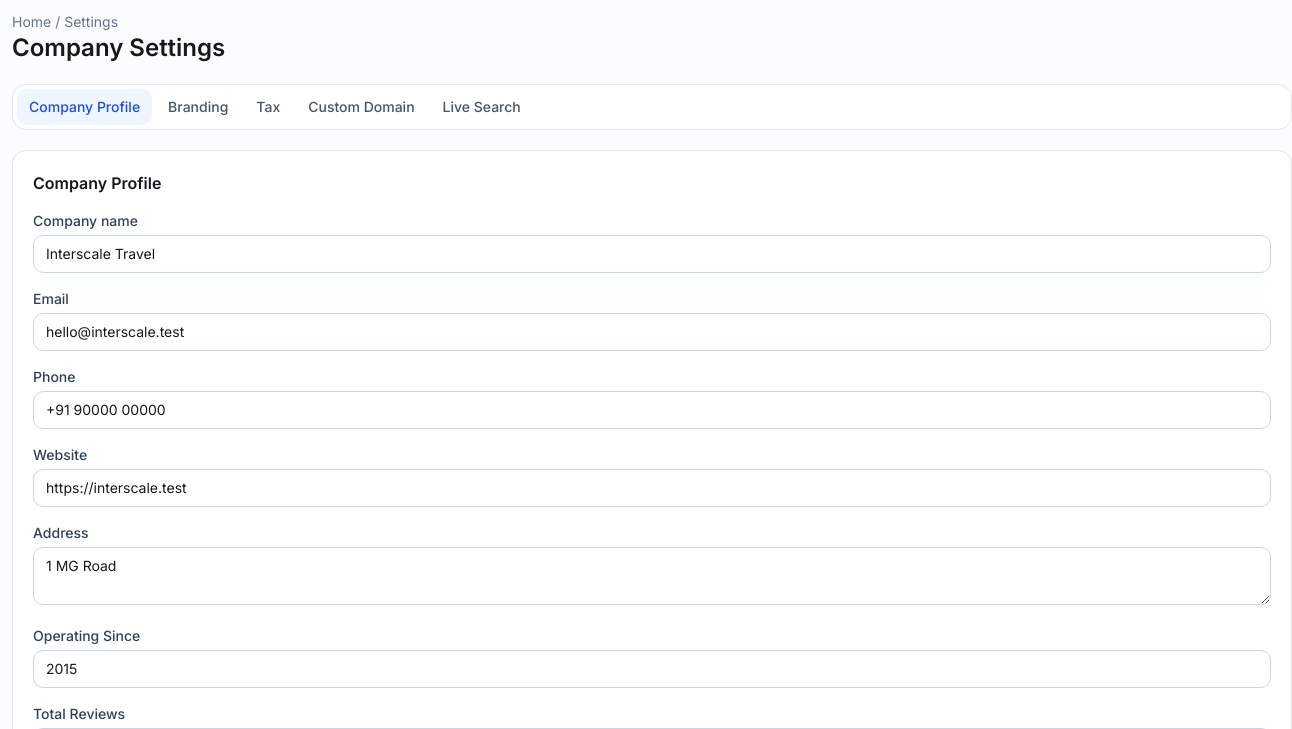
Phase 18 settings page › keeps primary colour data intact while hiding the control
Expected: the heading "Company Settings" is shown, x1=12 y1=33 x2=225 y2=62
// …while other branding (logo) remains usable.
Step 1. Click the button "Branding" → (198, 107), box x1=156 y1=89 x2=240 y2=125
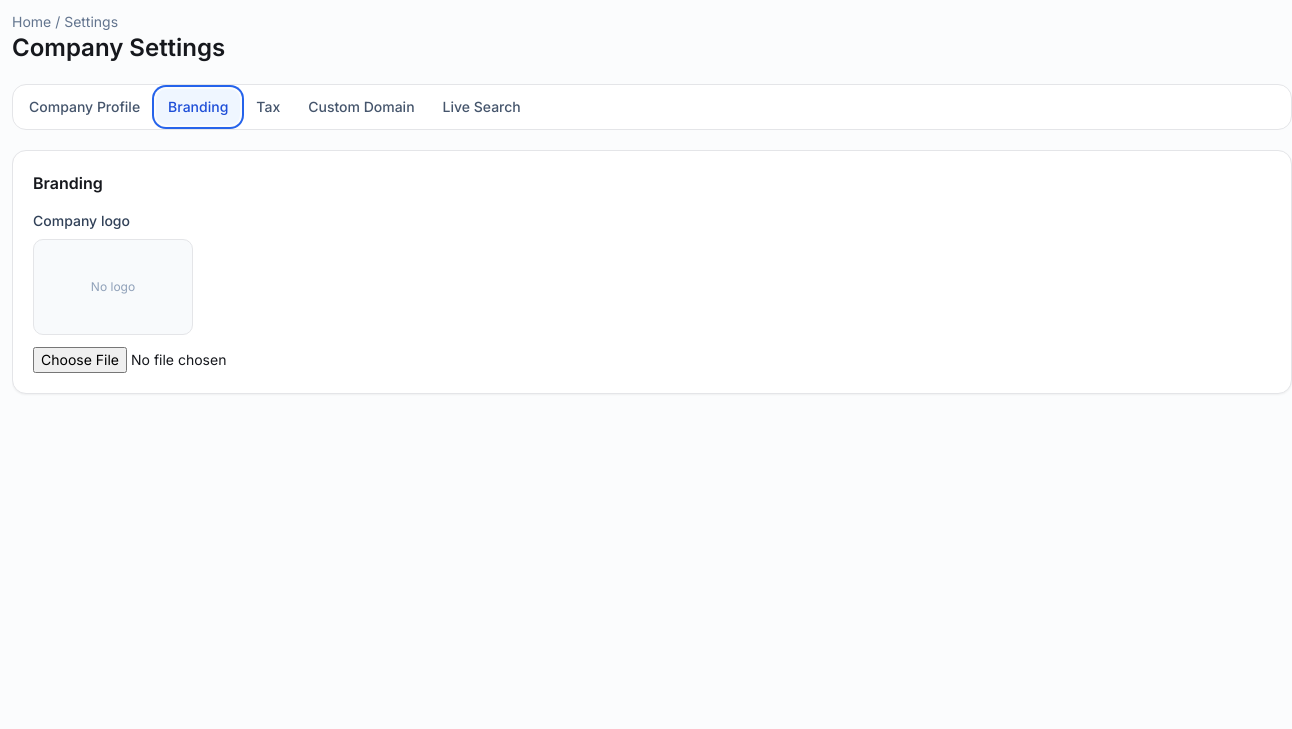
Expected: the text "Company logo" is shown, x1=33 y1=212 x2=130 y2=229
